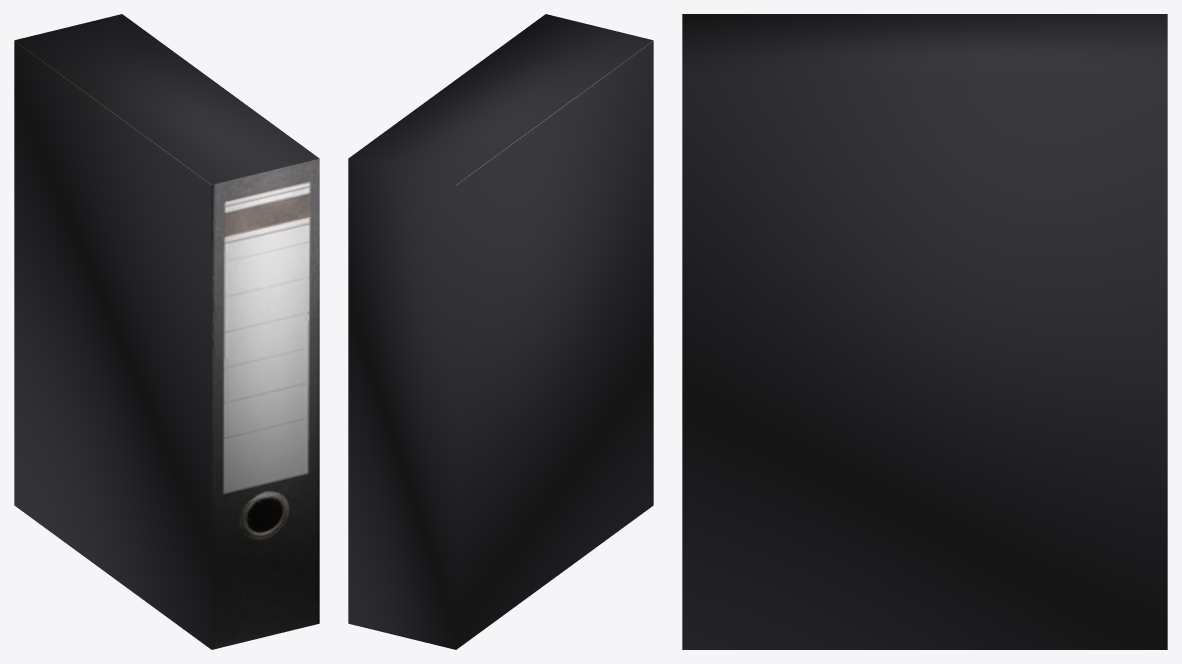
Rendered from boxfile_a.glb.
3 renders of one model, left to right at view 1: azimuth 30°, elevation 25°; view 2: azimuth 150°, elevation 25°; view 3: azimuth 270°, elevation 25°, orthographic. The views are drawn at different scales.
Parts seen in each view (by area): view 1: Body; view 2: Body; view 3: Body.
Boxes of the visible parts, <box> form: Body: <box>14,14,319,649</box>; Body: <box>348,14,653,649</box>; Body: <box>682,14,1167,649</box>.
Bounding box in the file's own units: 4.45 × 18.32 × 14.1.
Materials: 1 (1 with a texture image).
